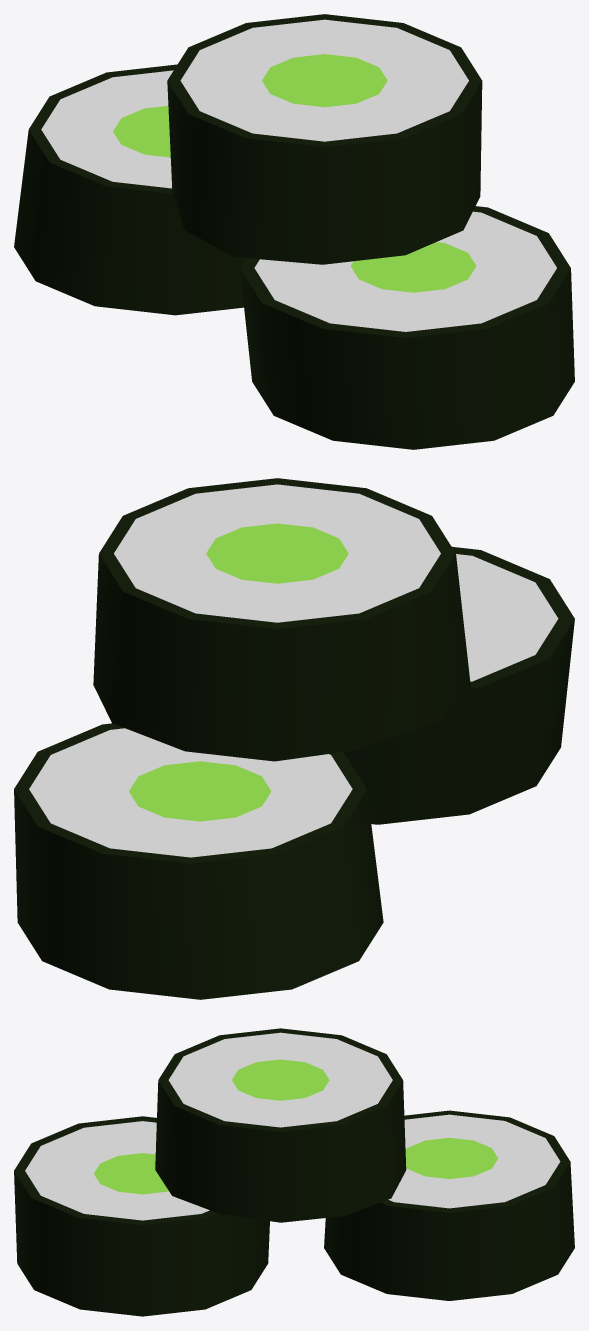
The model's file is avocado_maki.fbx.
The picture shows the model from 3 angles, top to bottom: view 1: azimuth 30°, elevation 25°; view 2: azimuth 150°, elevation 25°; view 3: azimuth 270°, elevation 25°; orthographic projection. The views are drawn at different scales.
Visible parts, largest first — view 1: AvocadoMaki; view 2: AvocadoMaki; view 3: AvocadoMaki.
Boxes of the visible parts, x1,y1,x2,y2 form: AvocadoMaki: [14, 14, 574, 449]; AvocadoMaki: [14, 478, 574, 999]; AvocadoMaki: [14, 1028, 574, 1316].
Size of the model in its own units: 68.75 by 48.39 by 134.
